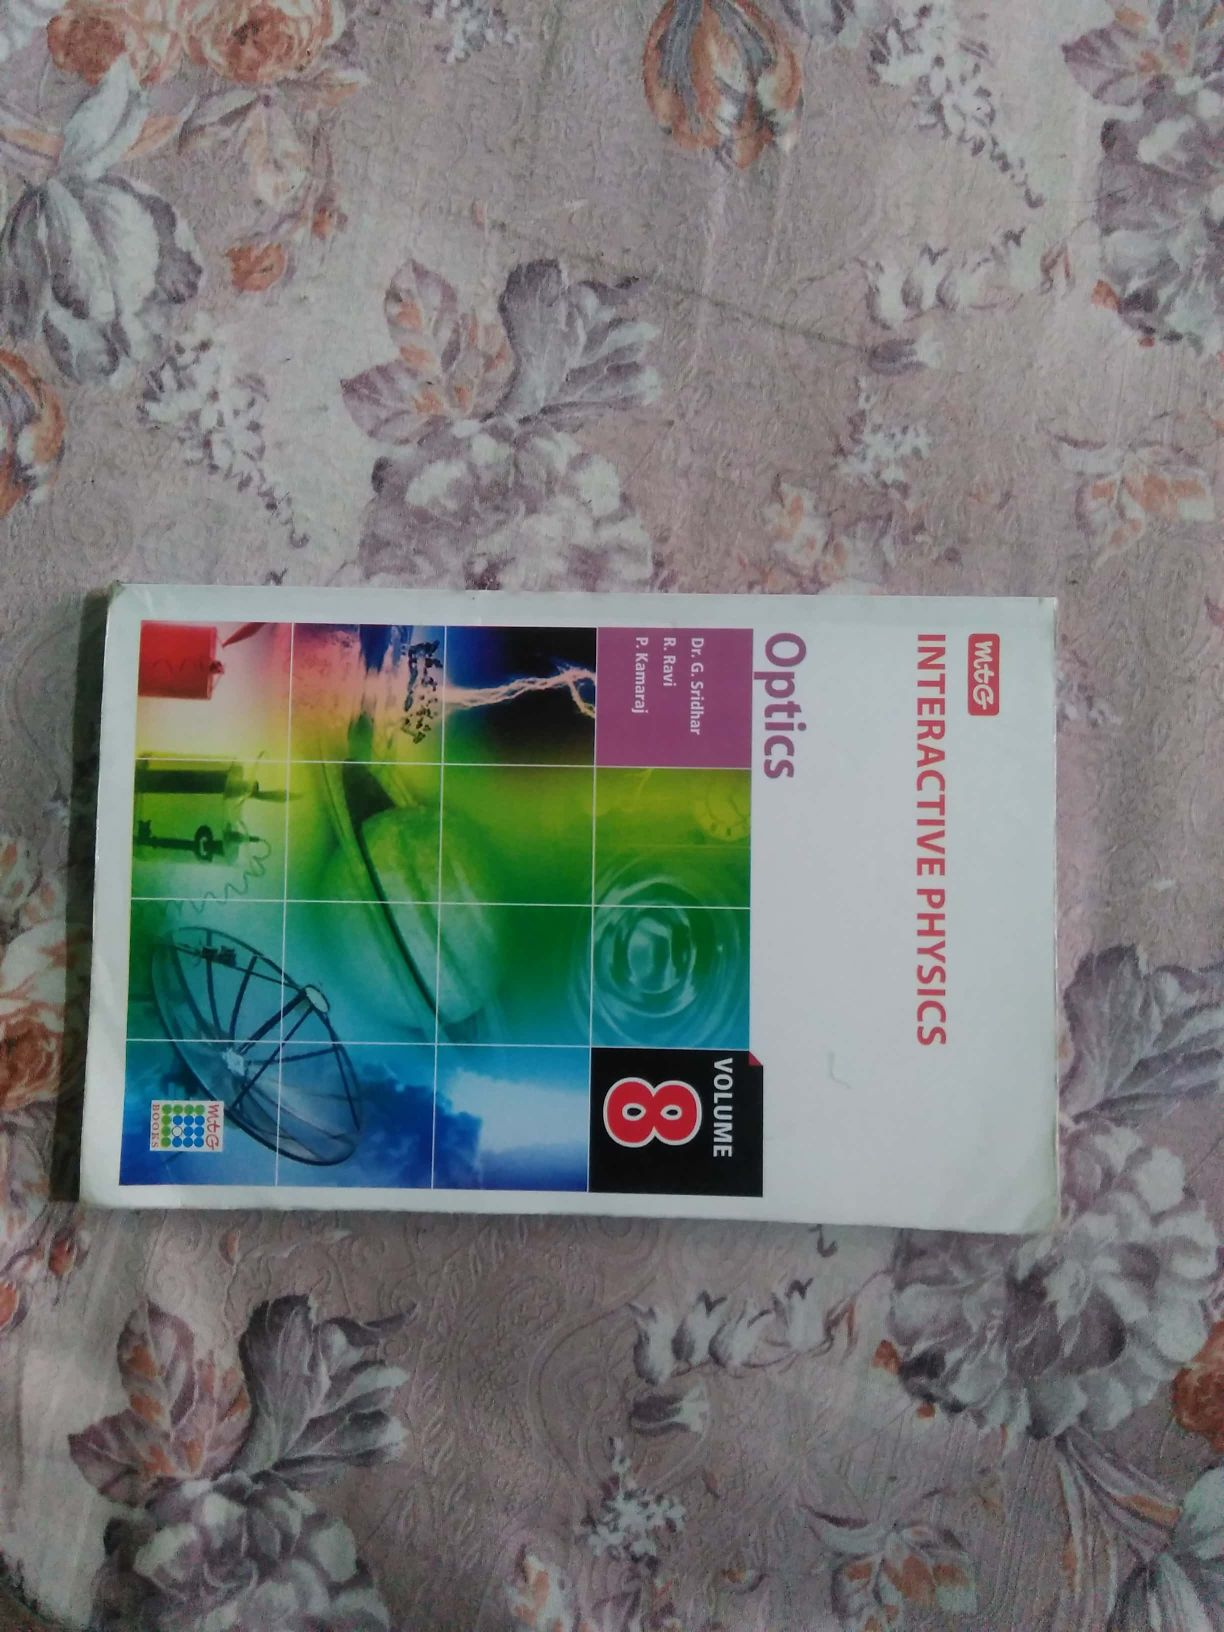optics: (69, 527, 1134, 1307)
